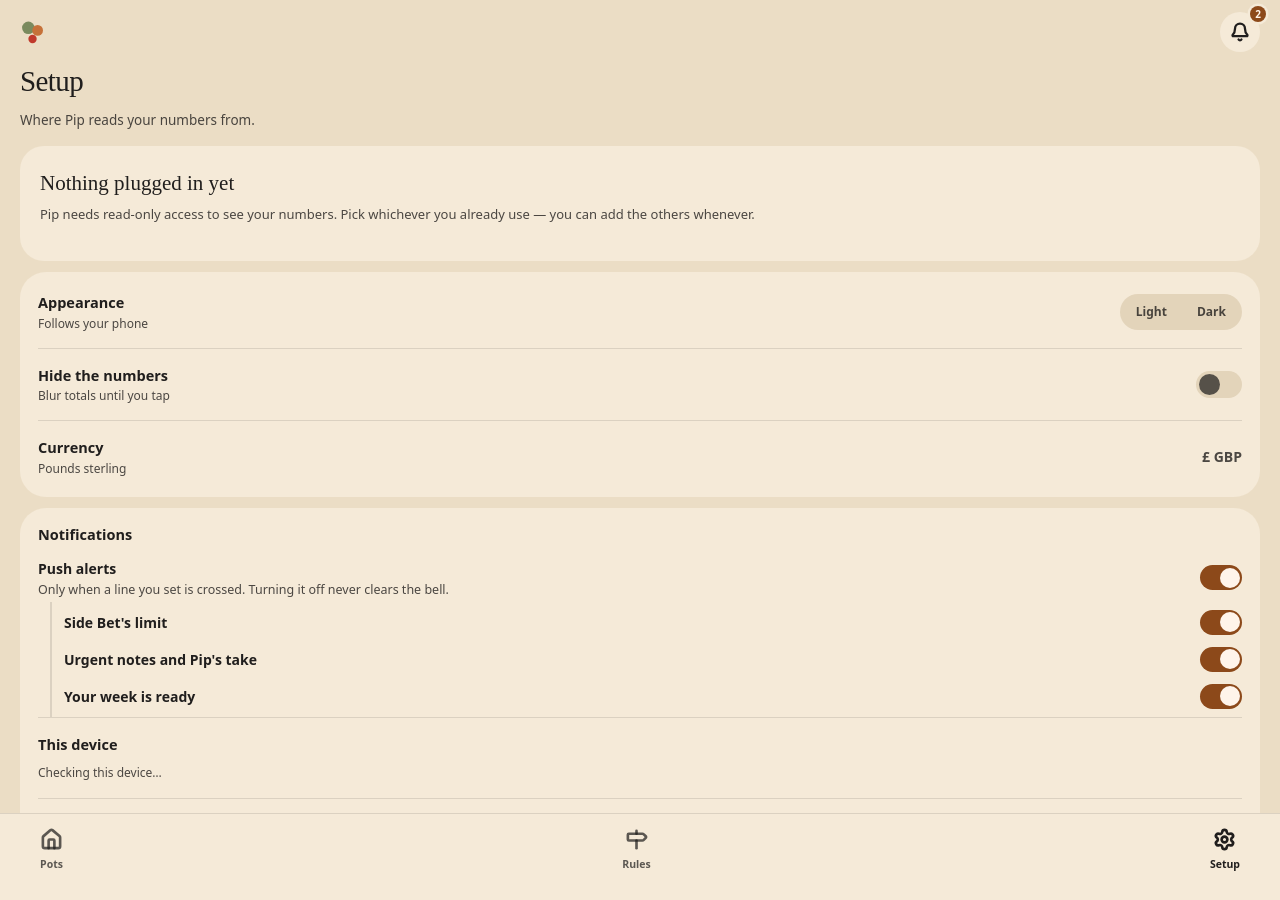
the bell › marks everything read at once
Click the button named "Notifications, 2 unread". click: (1240, 32)
box: [1220,12,1260,52]
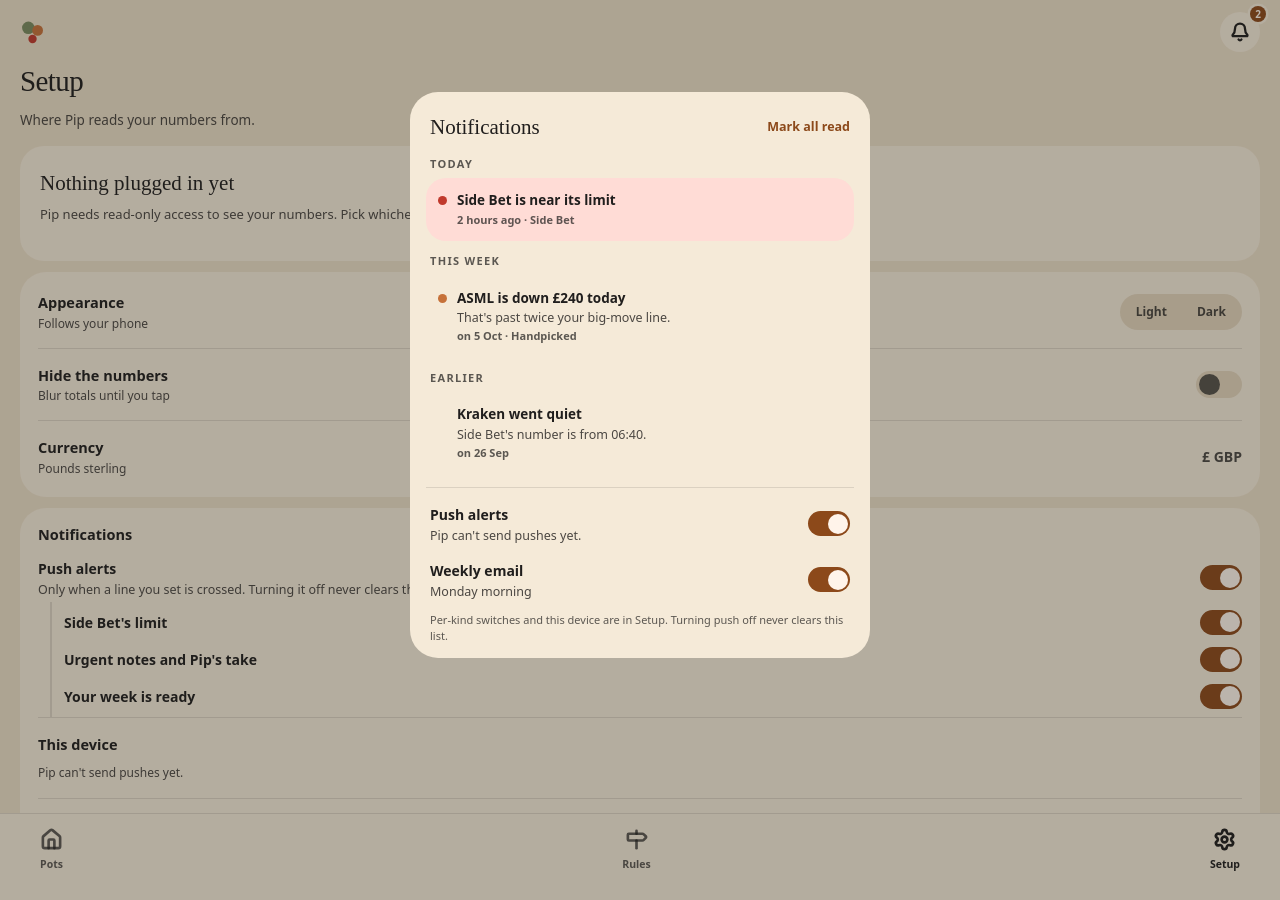
Click the button "Mark all read". click: (809, 128)
box: [767,118,850,137]
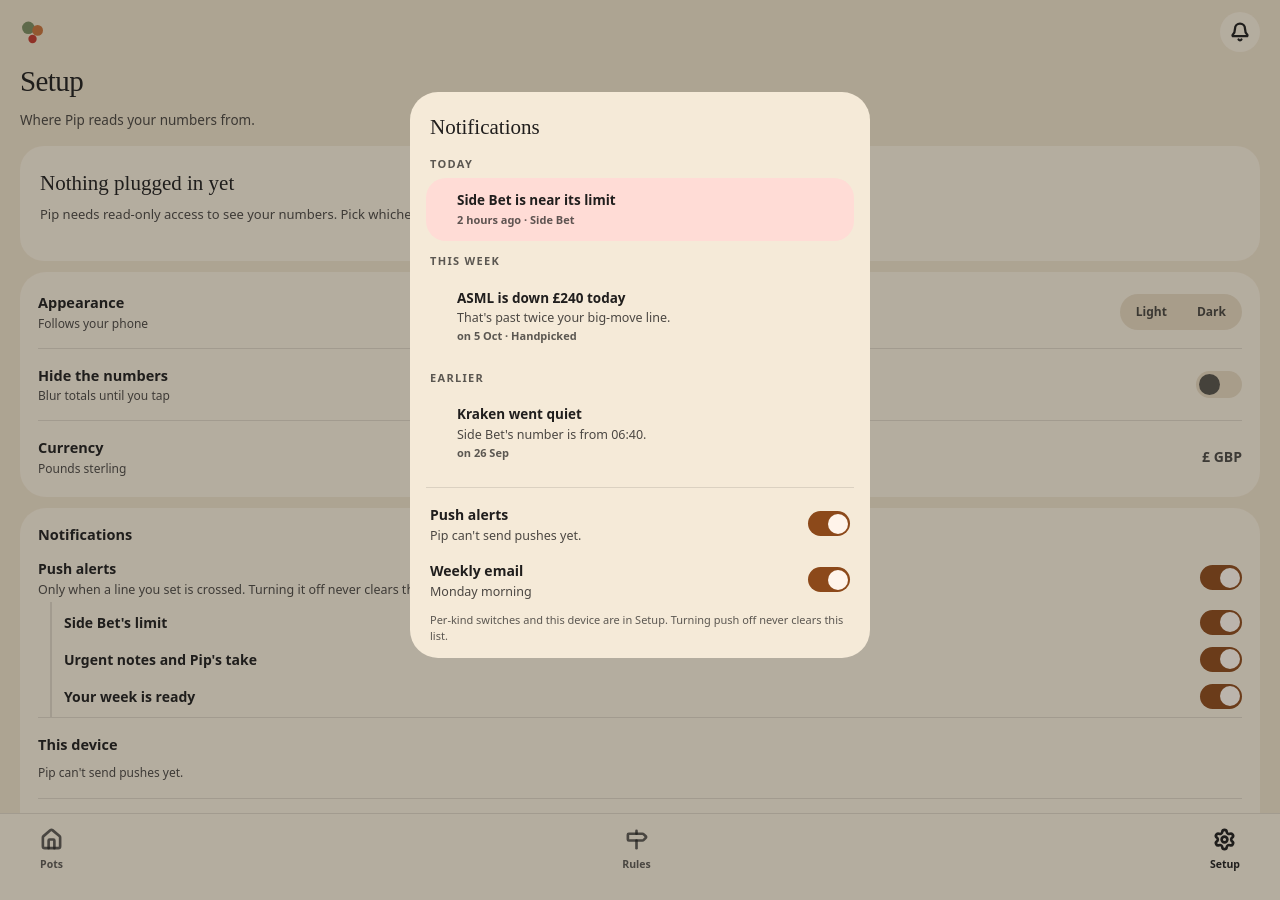
Result: the button "Mark all read" is gone
